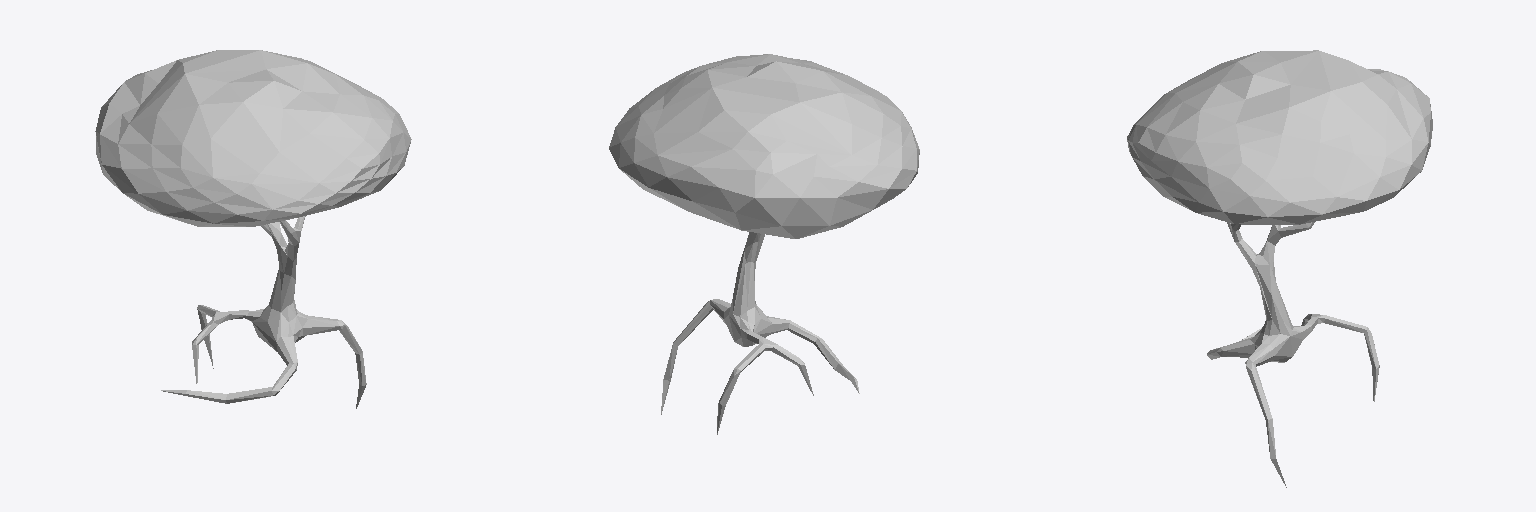
File: Tree2.obj
3 renders of one model, left to right at view 1: azimuth 30°, elevation 25°; view 2: azimuth 150°, elevation 25°; view 3: azimuth 270°, elevation 25°, orthographic.
Parts seen in each view (by area): view 1: Plane.001; view 2: Plane.001; view 3: Plane.001.
Boxes of the visible parts, x1=… form: Plane.001: x1=95, y1=50, x2=411, y2=408; Plane.001: x1=609, y1=54, x2=919, y2=434; Plane.001: x1=1127, y1=50, x2=1432, y2=487.
Bounding box in the file's own units: 2.41 × 3.08 × 2.33.